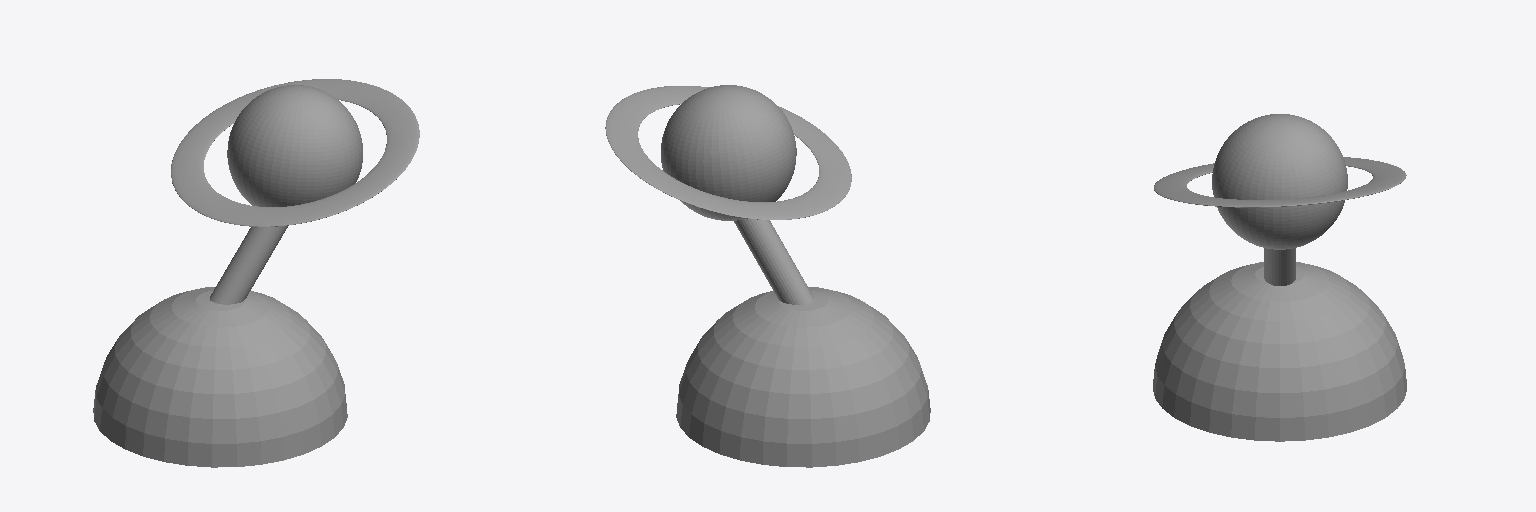
The model's file is hood_ornament_moonbo.obj.
3 renders of one model, left to right at view 1: azimuth 30°, elevation 25°; view 2: azimuth 150°, elevation 25°; view 3: azimuth 270°, elevation 25°, orthographic.
Visible parts, largest first — view 1: Cylinder; view 2: Cylinder; view 3: Cylinder.
Part boxes in pixels (x1,y1,x2,y2): Cylinder: (93,79,419,467); Cylinder: (605,85,930,467); Cylinder: (1153,114,1406,441).
Bounding box in the file's own units: 1.31 × 1.33 × 0.9879.